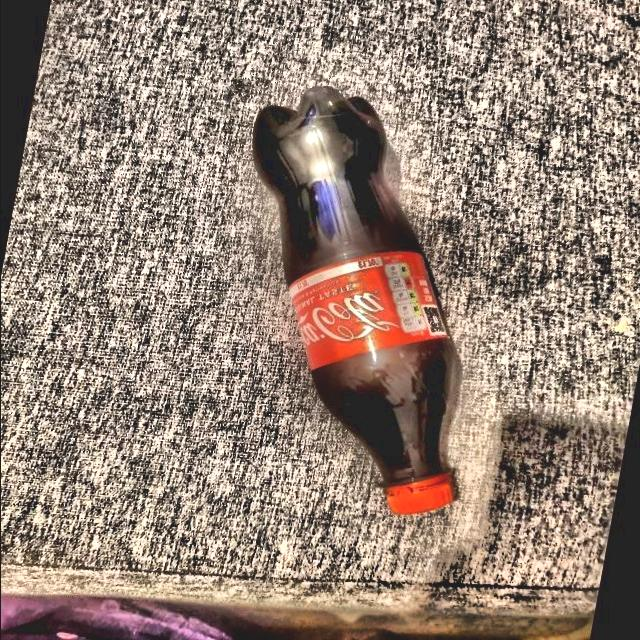coke-bottle: (248, 92, 471, 521)
